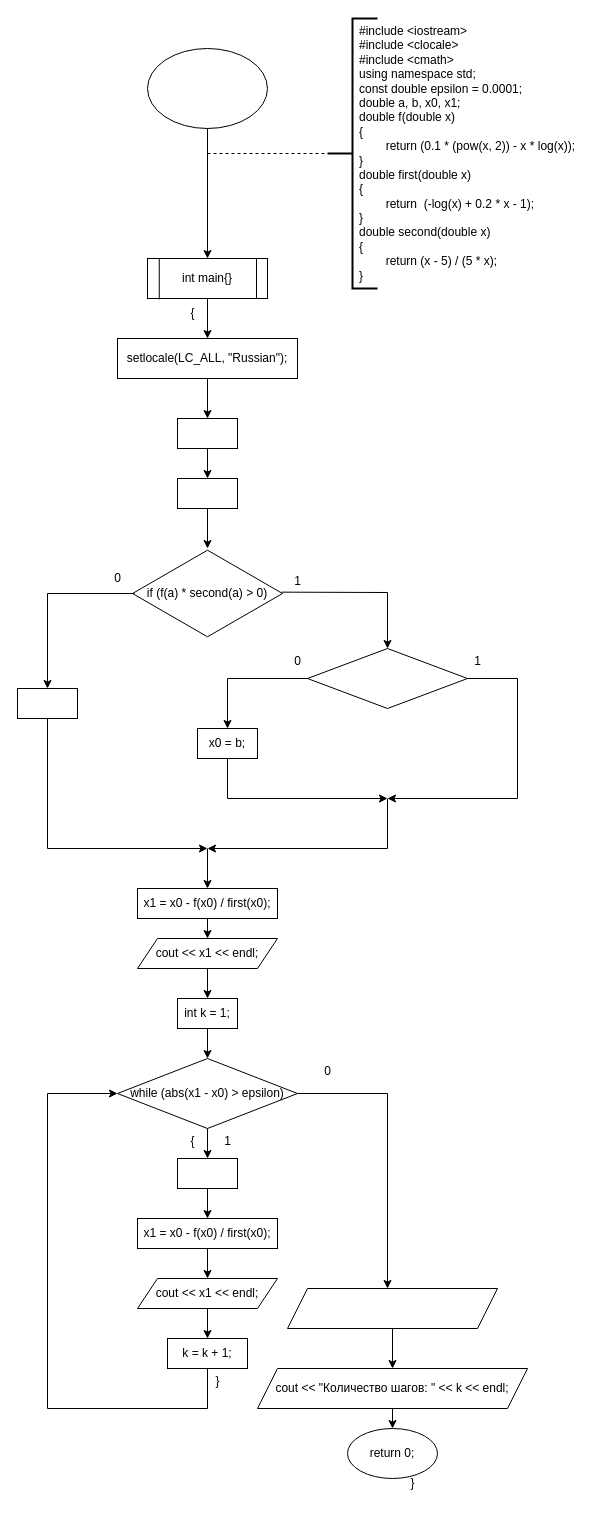
Some shapes in this 615 by 1515 pixel diagram are drawn without their labels. Here are the shapes that lost their labels. From the top down, the centre of each, then its label:
(207,88): Начало
(207,433): a = 1;
(207,493): b = 2;
(387,678): if (f(b) * second(b) > 0)
(47,703): x0 = a;
(207,1173): x0 = x1;
(392,1308): cout << "Корень: " << x1 << endl;
